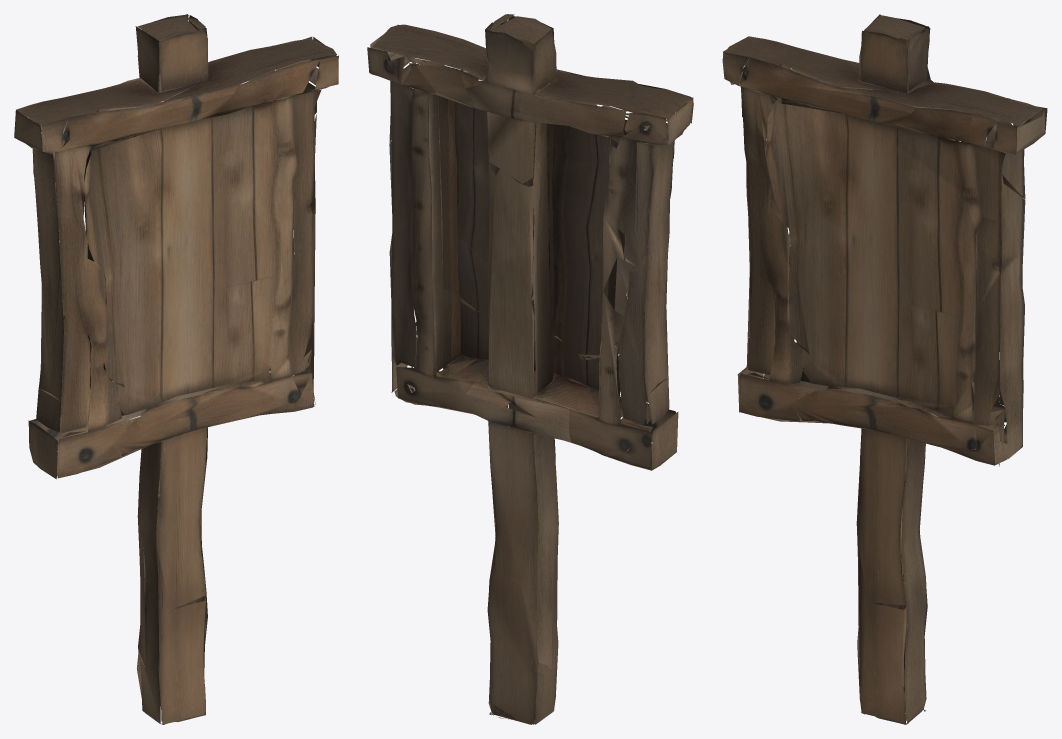
Rendered from speedrun_stand.glb.
3 views of the same model, side by side, from view 1: azimuth 30°, elevation 25°; view 2: azimuth 150°, elevation 25°; view 3: azimuth 330°, elevation 25° (orthographic).
Visible parts, largest first — view 1: Mesh_0; view 2: Mesh_0; view 3: Mesh_0.
Boxes of the visible parts, <box> form: Mesh_0: <box>14,14,338,724</box>; Mesh_0: <box>367,14,693,724</box>; Mesh_0: <box>722,14,1047,724</box>.
Size of the model in its own units: 0.9179 by 2 by 0.1911.
1 material, 1 textured.
